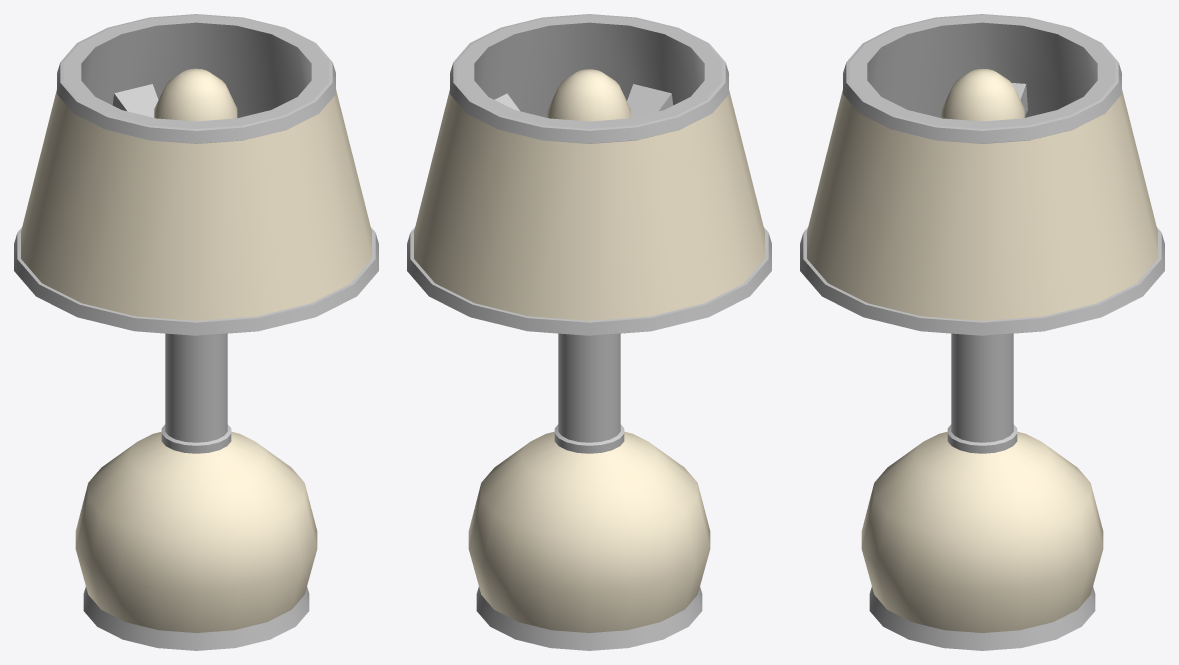
File: Bedside_lamp_02.FBX
The picture shows the model from 3 angles, left to right: view 1: azimuth 30°, elevation 25°; view 2: azimuth 150°, elevation 25°; view 3: azimuth 270°, elevation 25°; orthographic projection.
Parts seen in each view (by area): view 1: Cylinder003; view 2: Cylinder003; view 3: Cylinder003.
Boxes of the visible parts, x1,y1,x2,y2 form: Cylinder003: (14, 14, 378, 650); Cylinder003: (407, 14, 771, 650); Cylinder003: (800, 14, 1164, 650).
Bounding box in the file's own units: 35.93 × 57.96 × 35.39.
